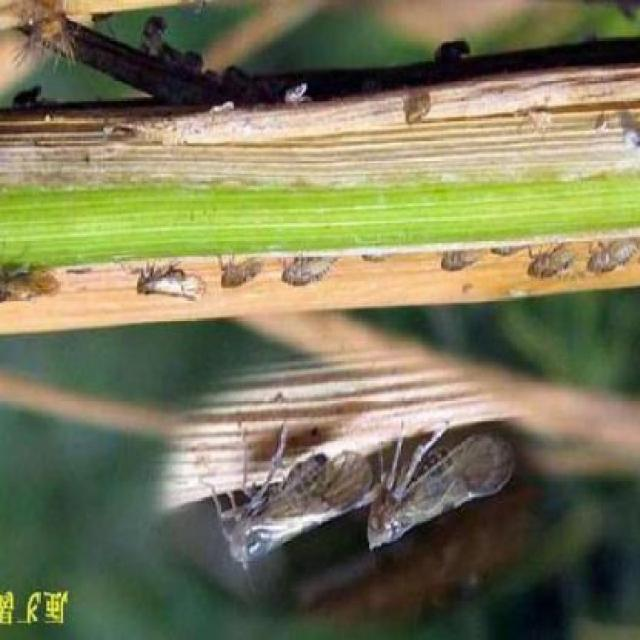brown-planthopper: (368, 422, 514, 552), (206, 454, 366, 566), (126, 258, 205, 308), (0, 264, 68, 311), (214, 249, 268, 288), (279, 254, 339, 288), (524, 244, 576, 281), (587, 240, 636, 274), (442, 245, 488, 277), (399, 98, 432, 127)
